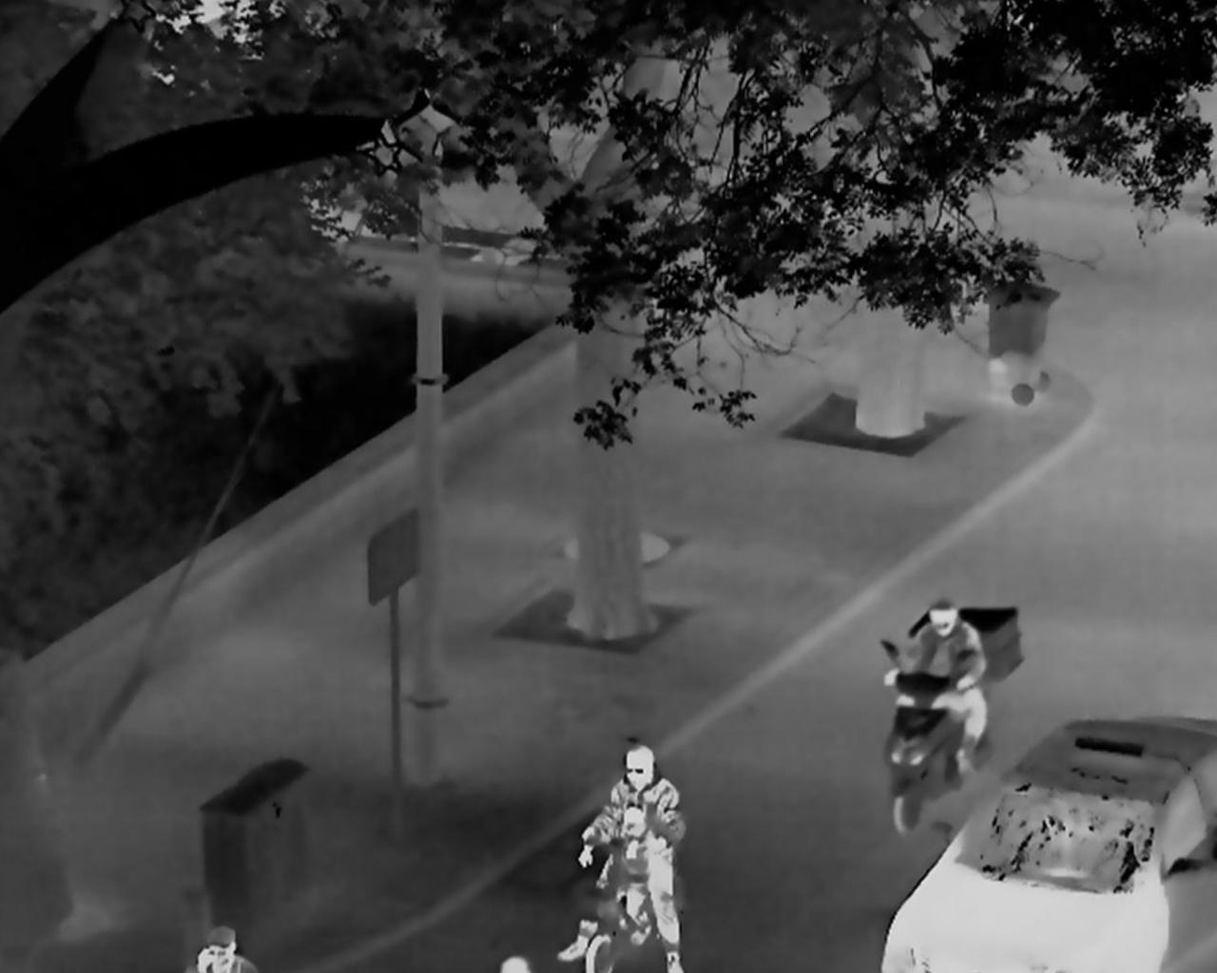person: (556, 740, 686, 973), (880, 597, 989, 773), (579, 803, 655, 944), (183, 926, 257, 973), (495, 953, 531, 973)
